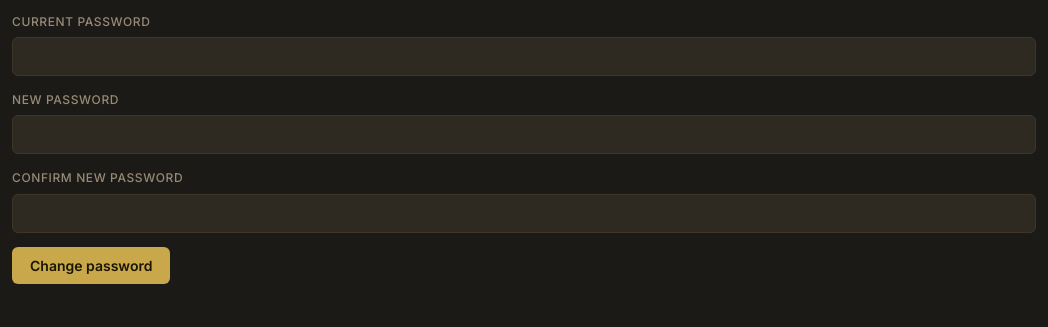
Test: ChangePasswordForm › points out when the two new passwords don't match, without asking the server
This screenshot has width=1048, height=327.
In the password field labelled "Current password": x=524, y=57 top-left (12, 37), bottom-right (1036, 76), type "the old password 1"
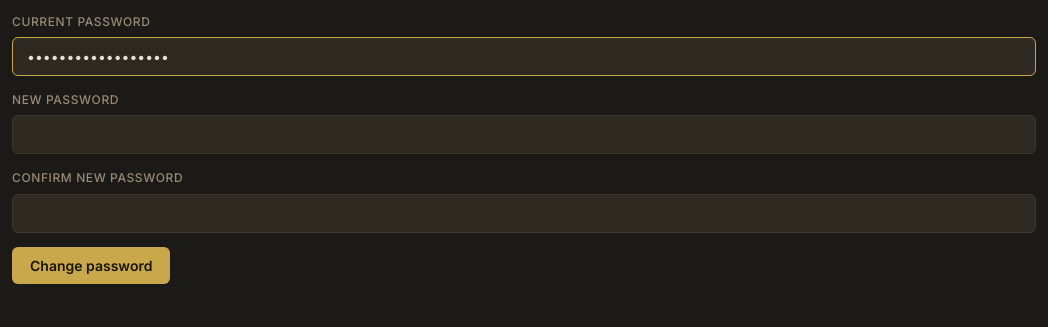
In the password field labelled "New password": x=524, y=135 top-left (12, 115), bottom-right (1036, 154), type "a brand new password 2"
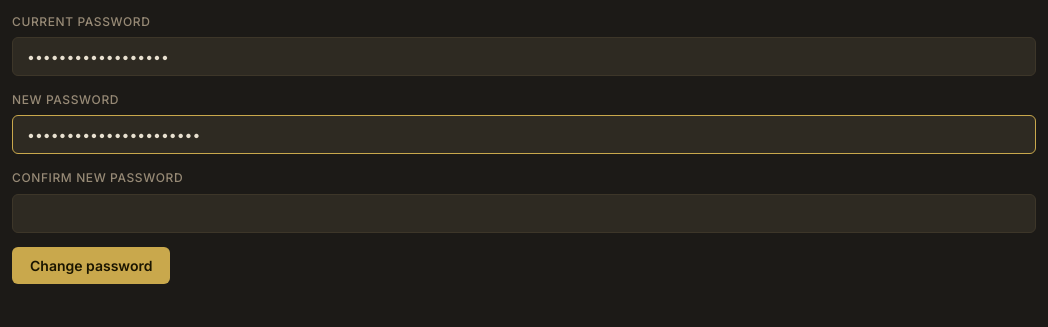
In the password field labelled "Confirm new password": x=524, y=213 top-left (12, 194), bottom-right (1036, 233), type "something else entirely"
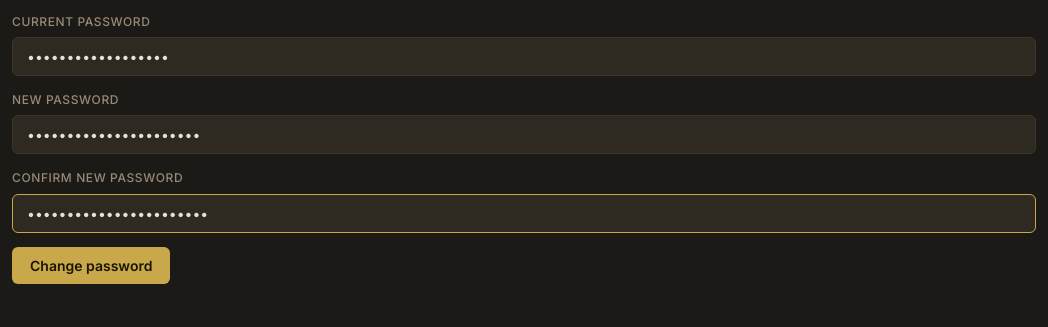
Click the button "Change password": x=91, y=265 top-left (12, 247), bottom-right (170, 284)
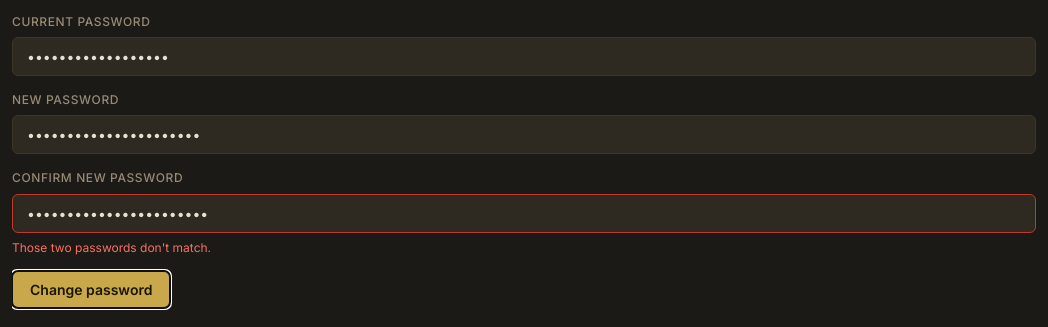
Result: the text "Those two passwords don't match." is shown at top-left (12, 240), bottom-right (211, 255)
